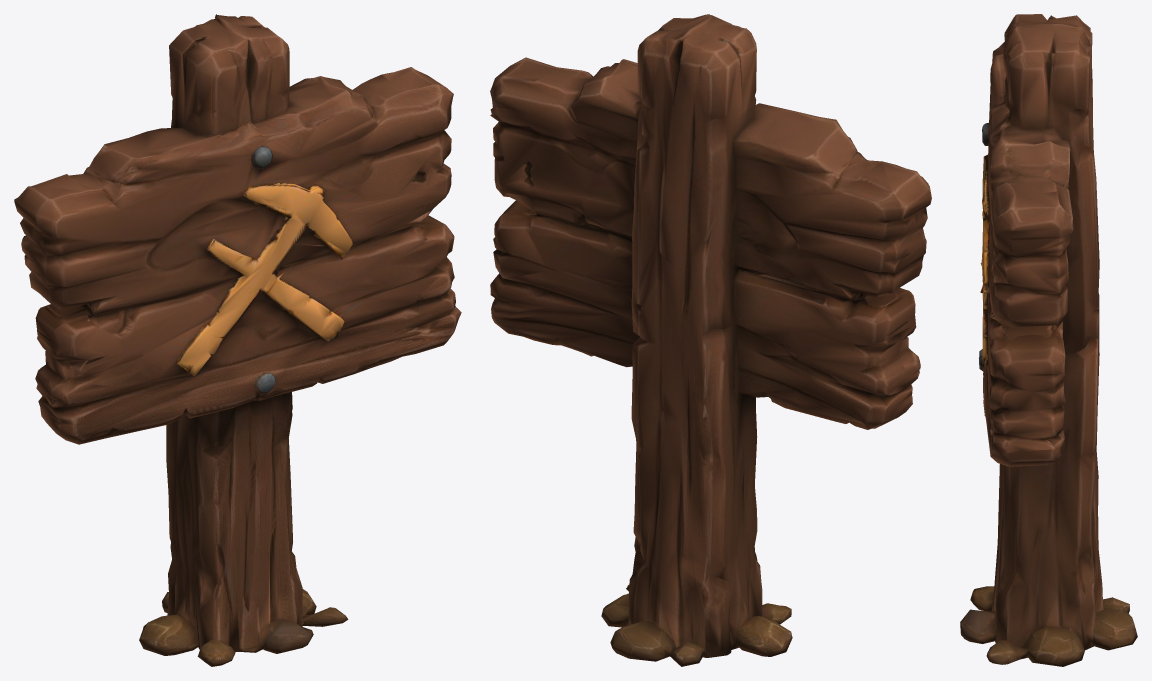
The model's file is letrero_de_madera_2.glb.
3 renders of one model, left to right at view 1: azimuth 30°, elevation 25°; view 2: azimuth 150°, elevation 25°; view 3: azimuth 270°, elevation 25°, orthographic.
Parts seen in each view (by area): view 1: letrero_de_madera_2; view 2: letrero_de_madera_2; view 3: letrero_de_madera_2.
Boxes of the visible parts, x1,y1,x2,y2 form: letrero_de_madera_2: (14, 14, 461, 666); letrero_de_madera_2: (490, 14, 931, 666); letrero_de_madera_2: (960, 14, 1137, 666).
Size of what is drawn, in the model's own units: 1.32 by 1.8 by 0.48.
Materials: 1 (1 with a texture image).
